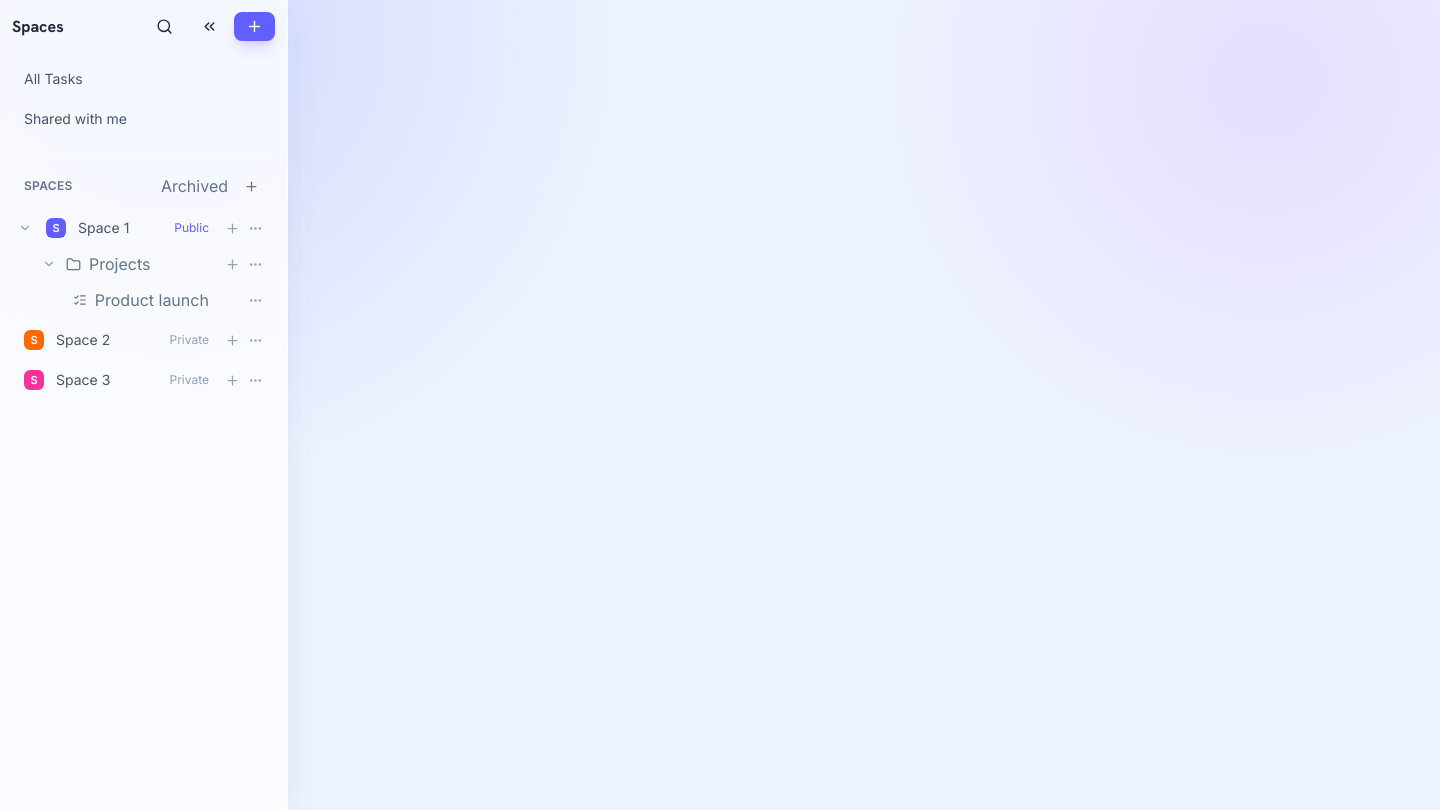
ContextSidebar › deletes a local Space from the confirmation modal and selects the next Space
What coordinates should you click on to do the following:
click the button named "More options for Space 1"
I would click on:
 (256, 228)
Its box is [244,216,267,240].
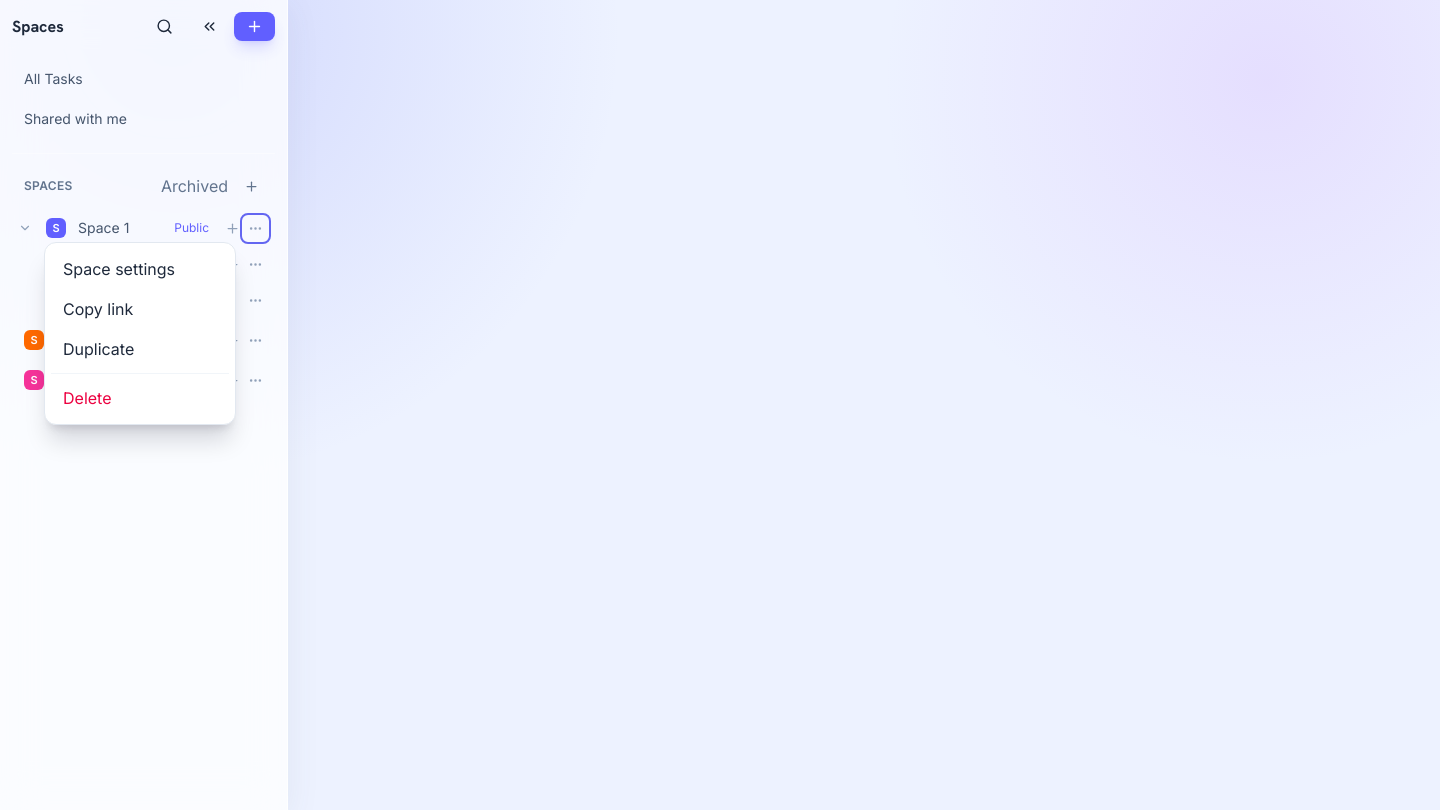
What coordinates should you click on to do the following:
click the menu item "Delete"
I would click on:
 (140, 398)
Its box is [51,378,229,418].
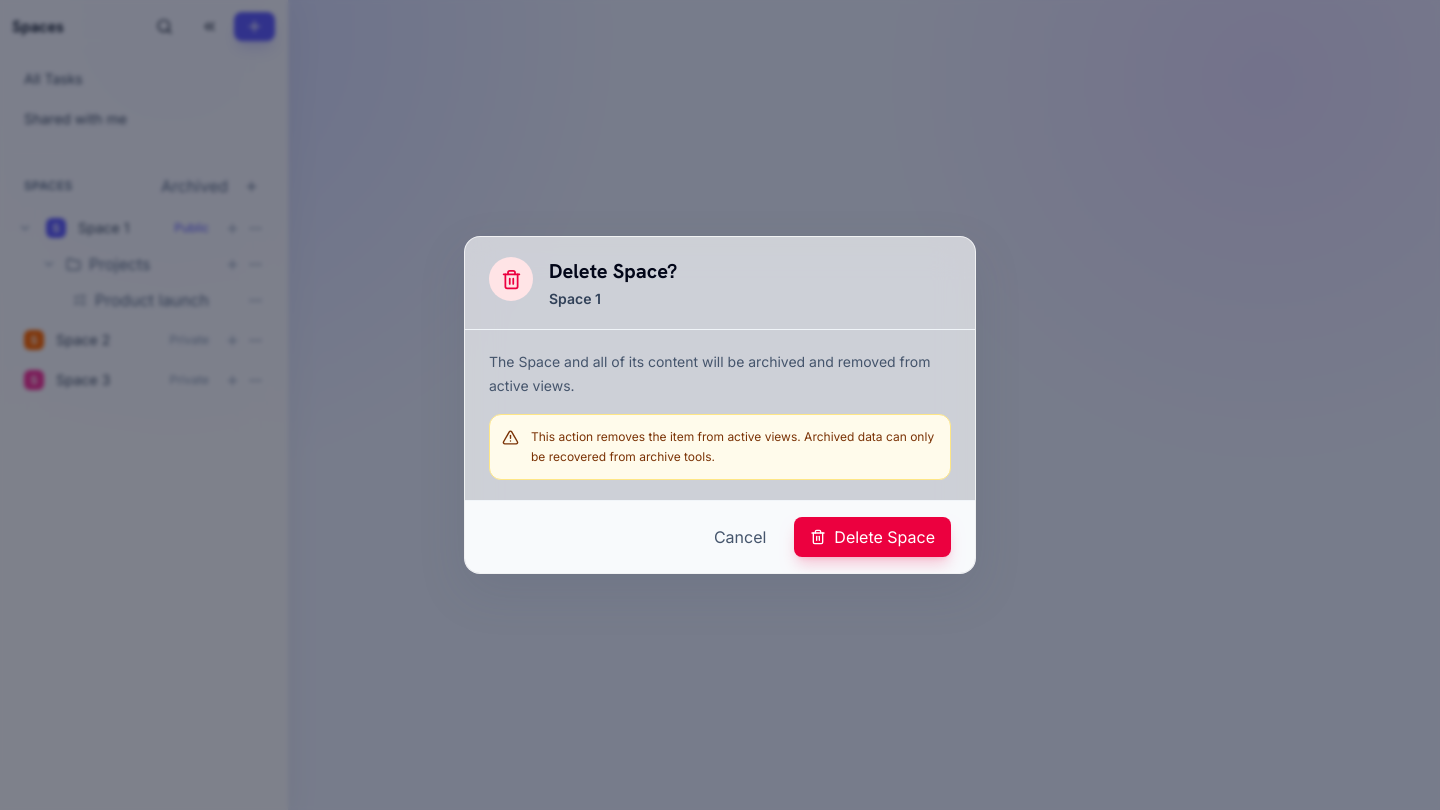
Now the dialog named "Delete Space 1" is shown, box [464,236,976,574]
Now the text "The Space and all of its content will be archived and removed from active views." is shown, box [489,350,951,398]
What coordinates should you click on to do the following:
click the button "Delete Space"
I would click on:
 (873, 537)
Its box is [794,517,951,557].
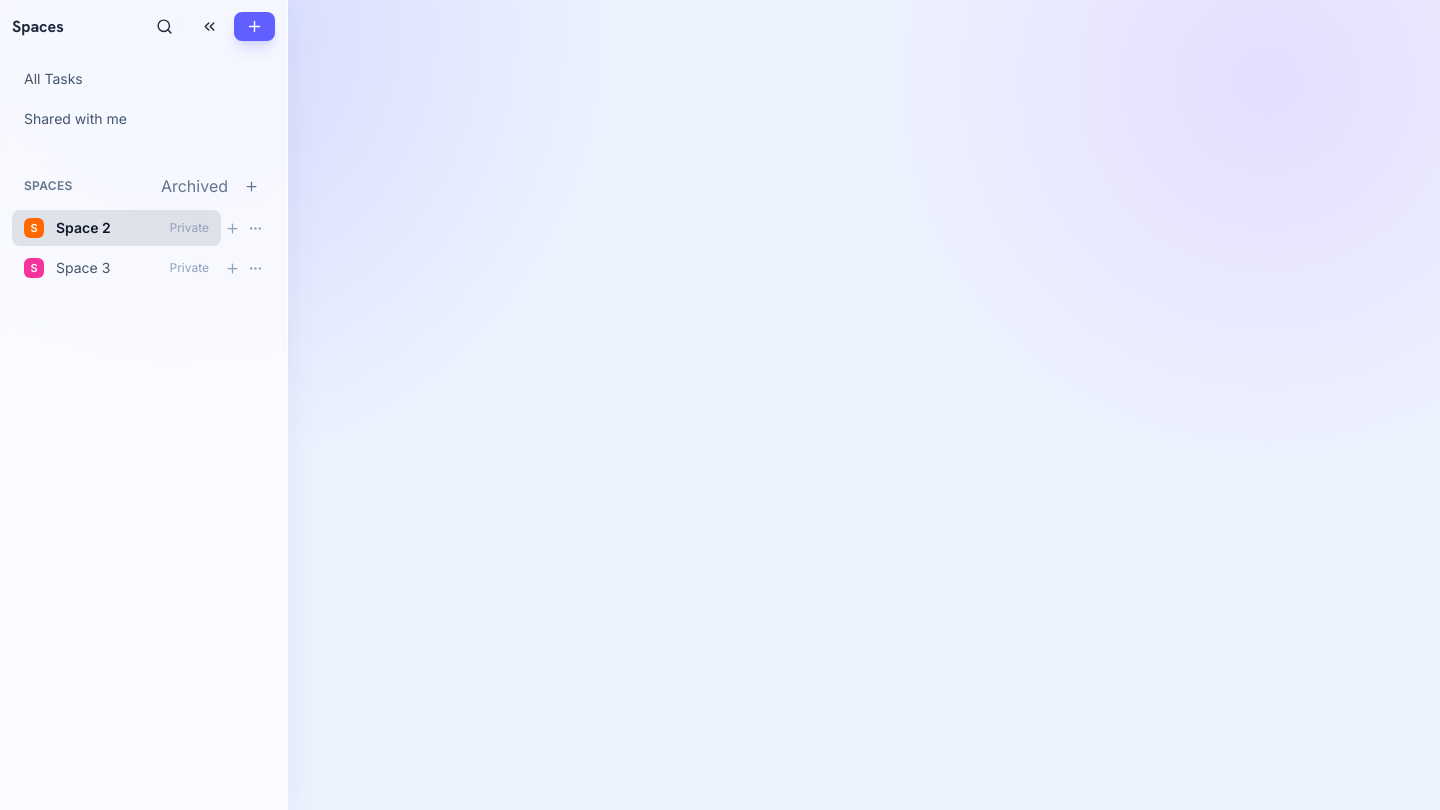
Now the link "Space 1" is gone
